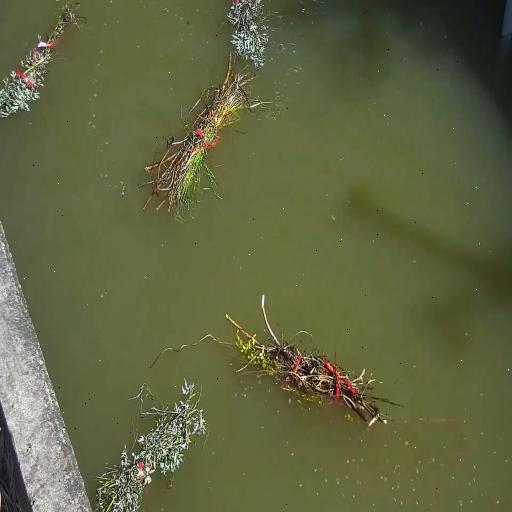twig: (226, 296, 386, 424), (143, 54, 263, 217), (97, 378, 206, 512), (0, 2, 86, 117), (227, 0, 269, 68)
